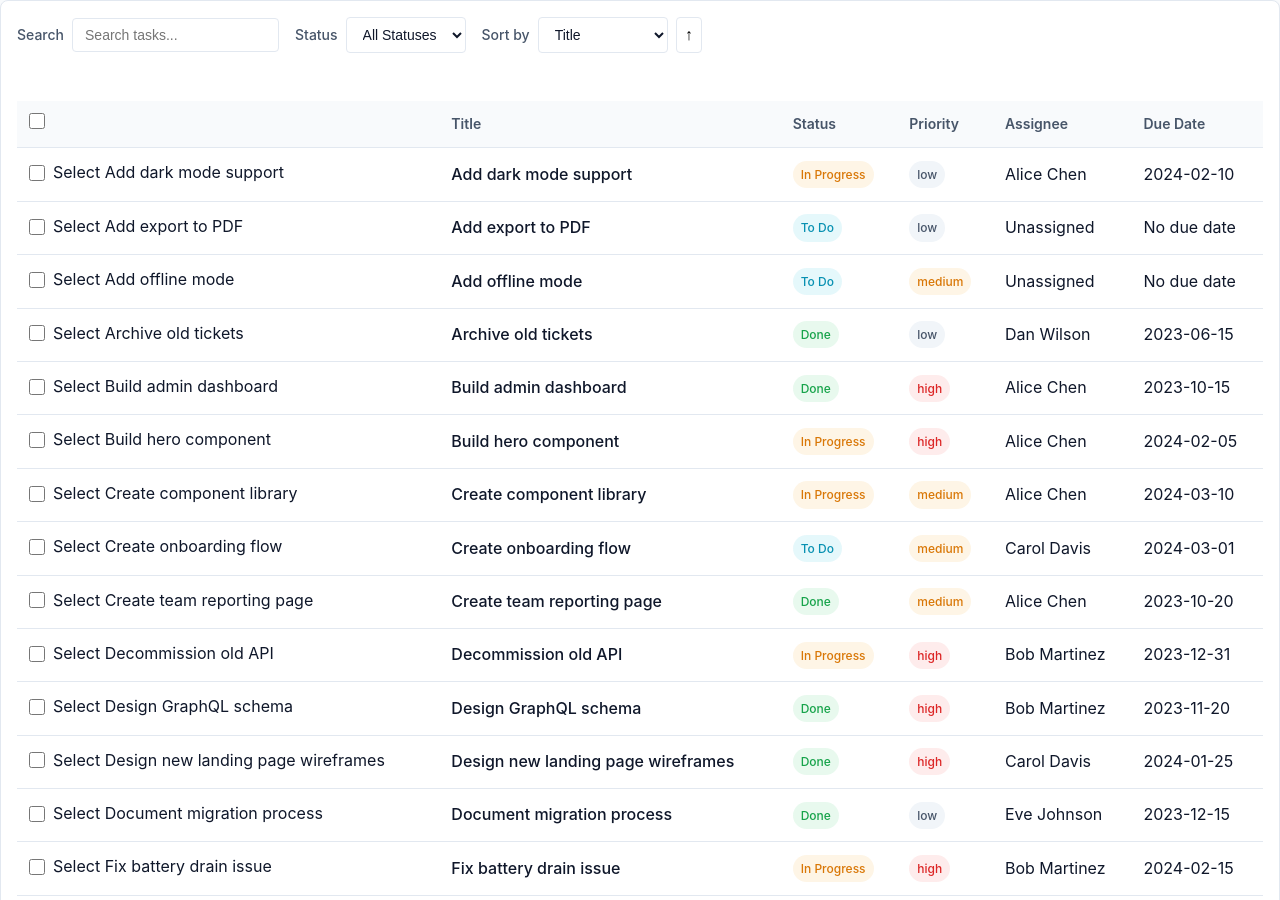
Test: TaskTable › select all toggles all visible tasks
Step 1. Click the checkbox named "select all" → {"x": 37, "y": 121}, box [29, 113, 45, 129]
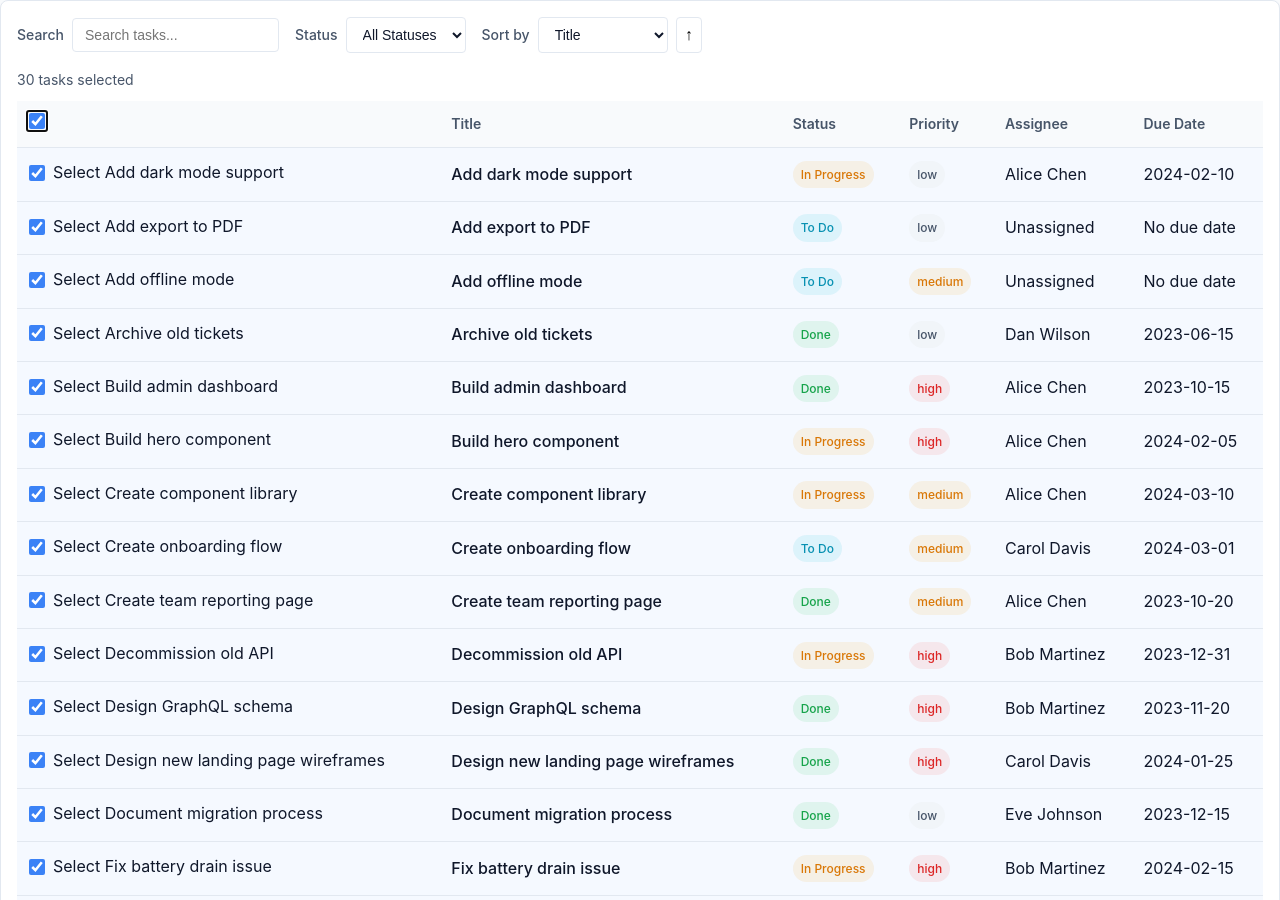
Step 2. Click the checkbox named "select all" → {"x": 37, "y": 121}, box [29, 113, 45, 129]
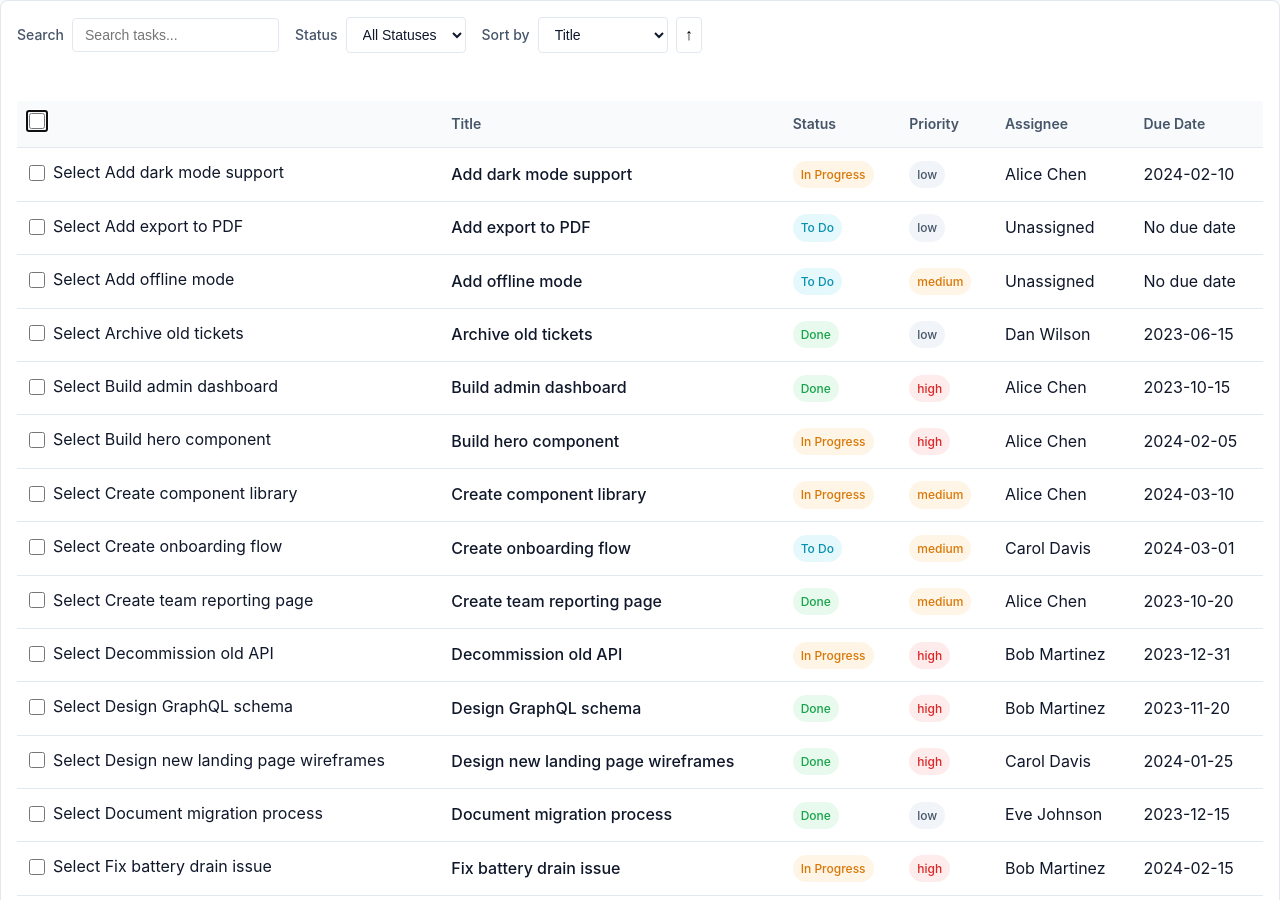
Check: the text "selected" is gone
